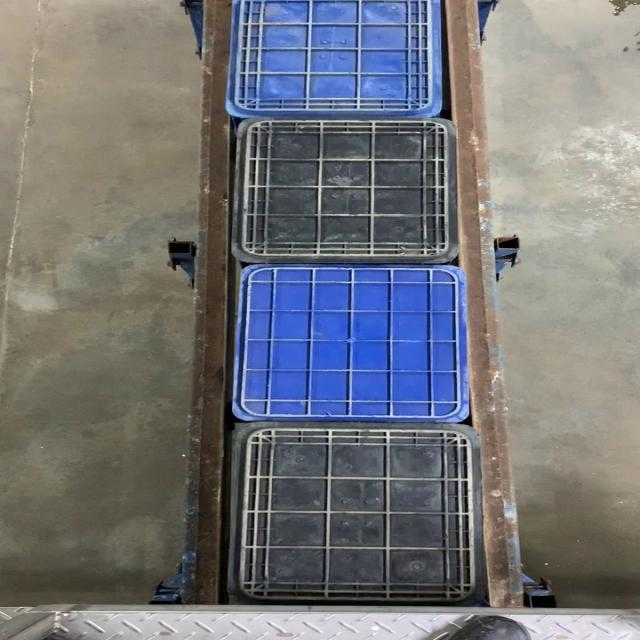Box: (224, 424, 491, 604), (232, 264, 474, 423), (235, 118, 463, 264)
